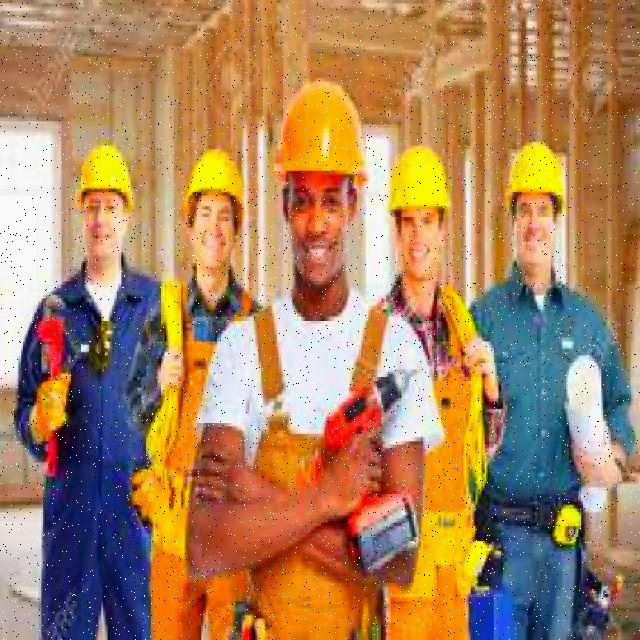Gloves: (24, 374, 66, 440)
Helmet: (270, 76, 366, 175), (182, 146, 244, 228), (388, 140, 452, 212), (75, 144, 137, 208), (508, 140, 564, 205)
Mask: (216, 309, 429, 640), (23, 249, 156, 620), (474, 282, 634, 504)
